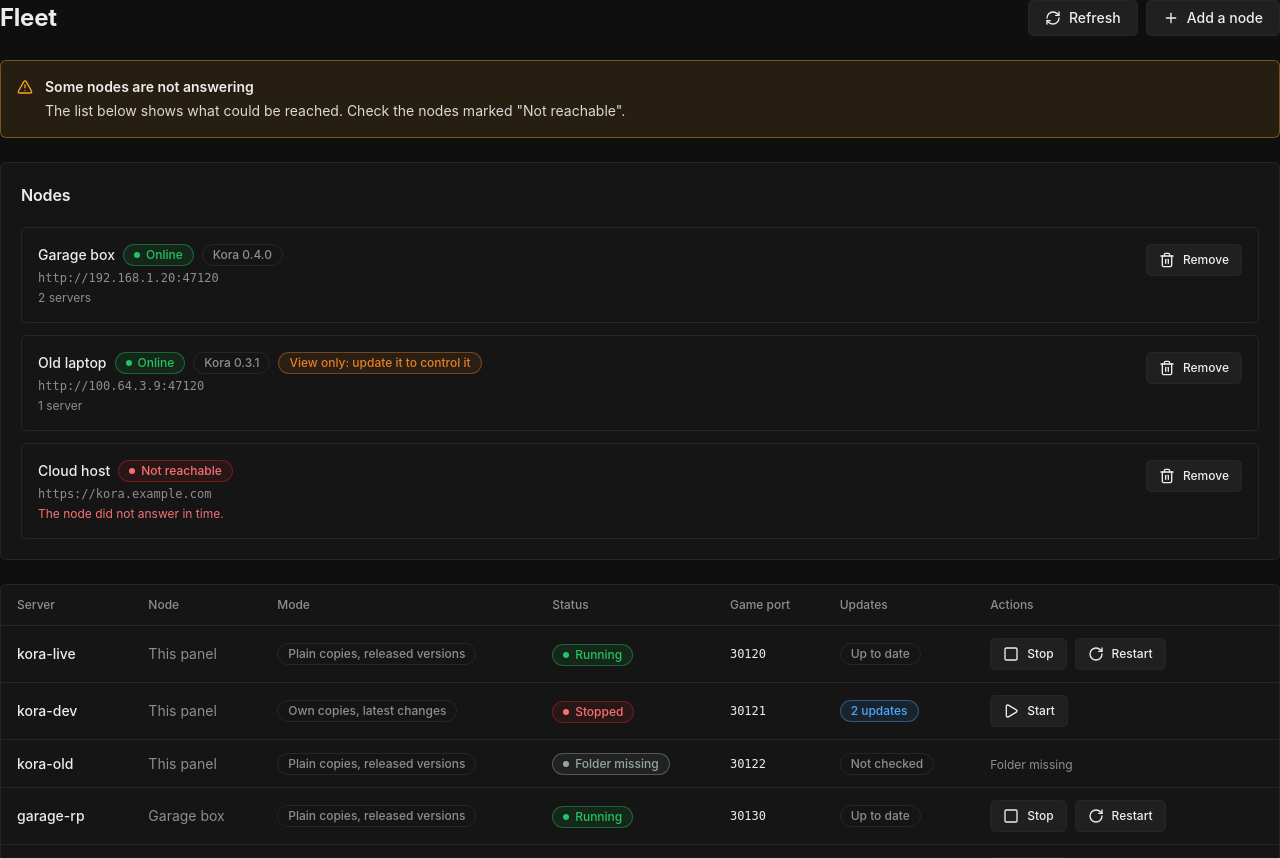
it: Fleet page › adds a node (warning for an open address) and removes one
Expected: the button with aria-label "Remove Garage box" is shown, [1146,244,1242,276]
Click the button "Add a node" at (1213, 18), box [1146,0,1279,36]
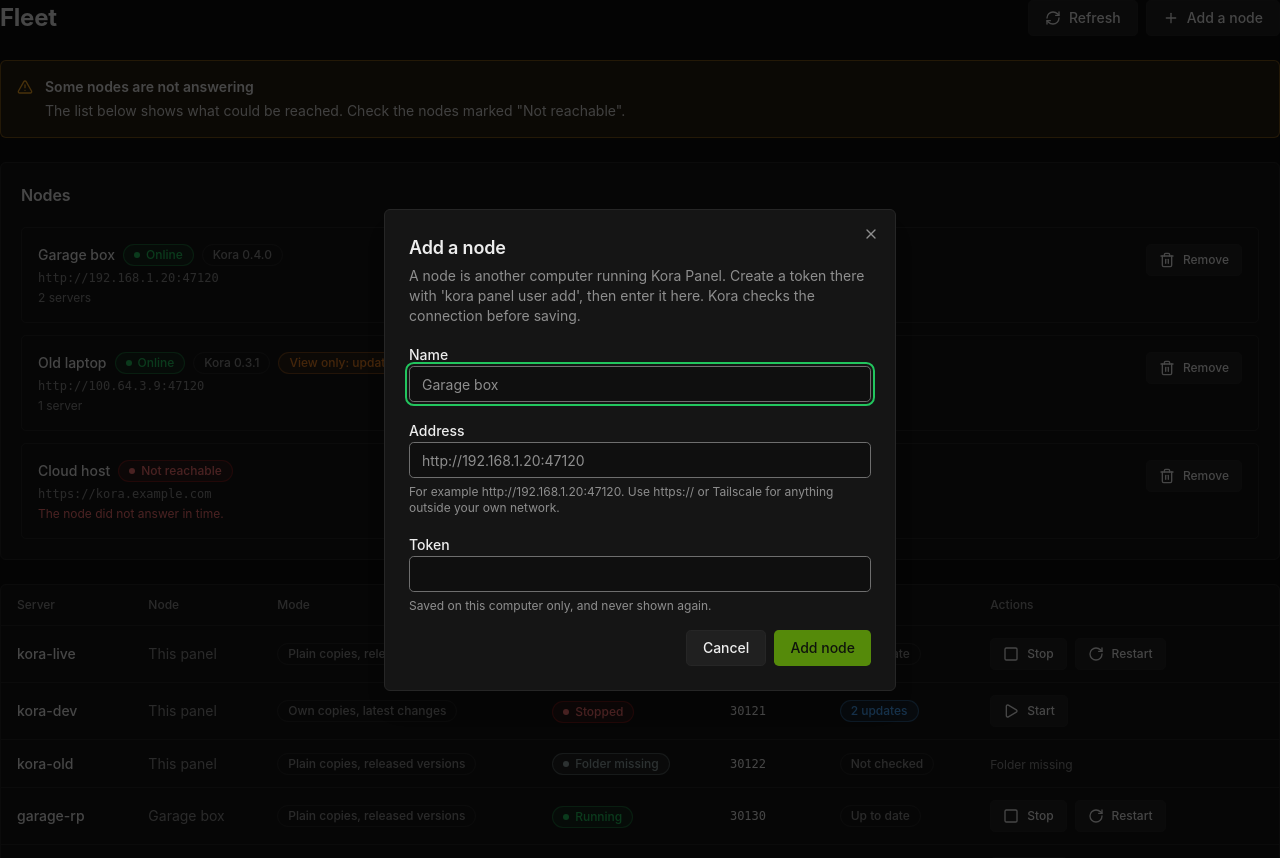
Type "Far away" into the field labelled "Name" at (640, 384), box [409,366,871,402]
Type "http://203.0.113.5:47120" into the field labelled "Address" at (640, 460), box [409,442,871,478]
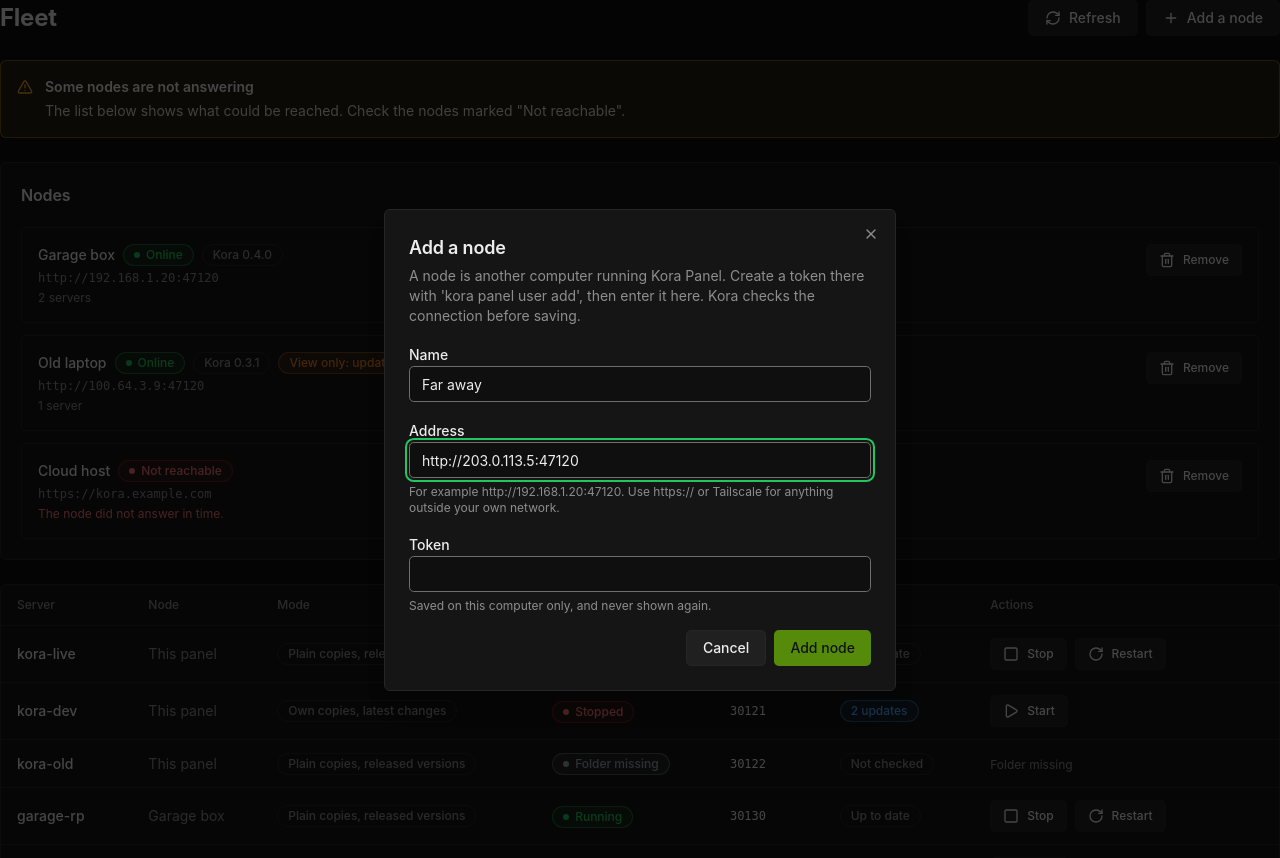
Type "secret" into the password field labelled "Token" at (640, 574), box [409,556,871,592]
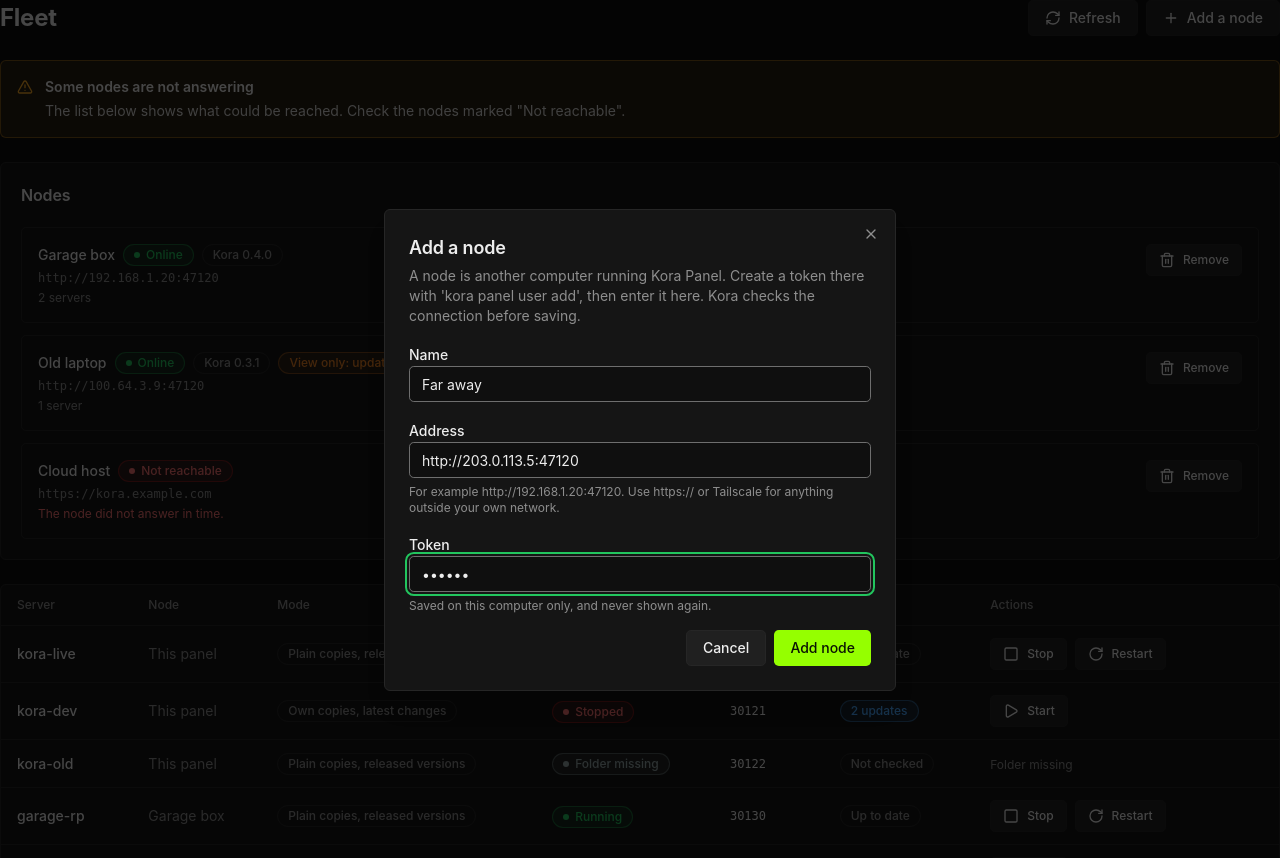
Click the button "Add node" at (823, 648), box [774,630,871,666]
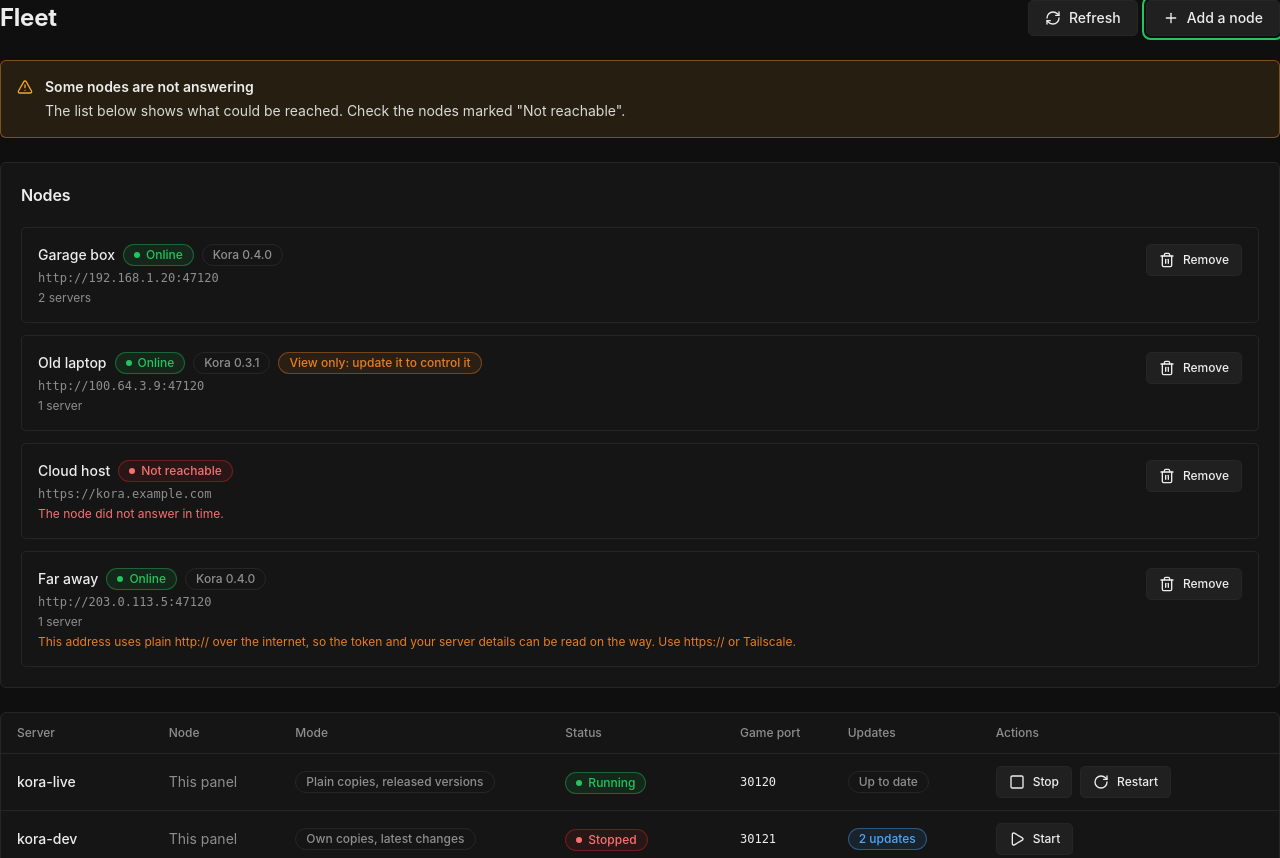
Expected: the button with aria-label "Remove Far away" is shown, [1146,568,1242,600]
Expected: the text "plain http:// over the internet" is shown, [38,634,796,649]
Click the button with aria-label "Remove Old laptop" at (1194, 368), box [1146,352,1242,384]
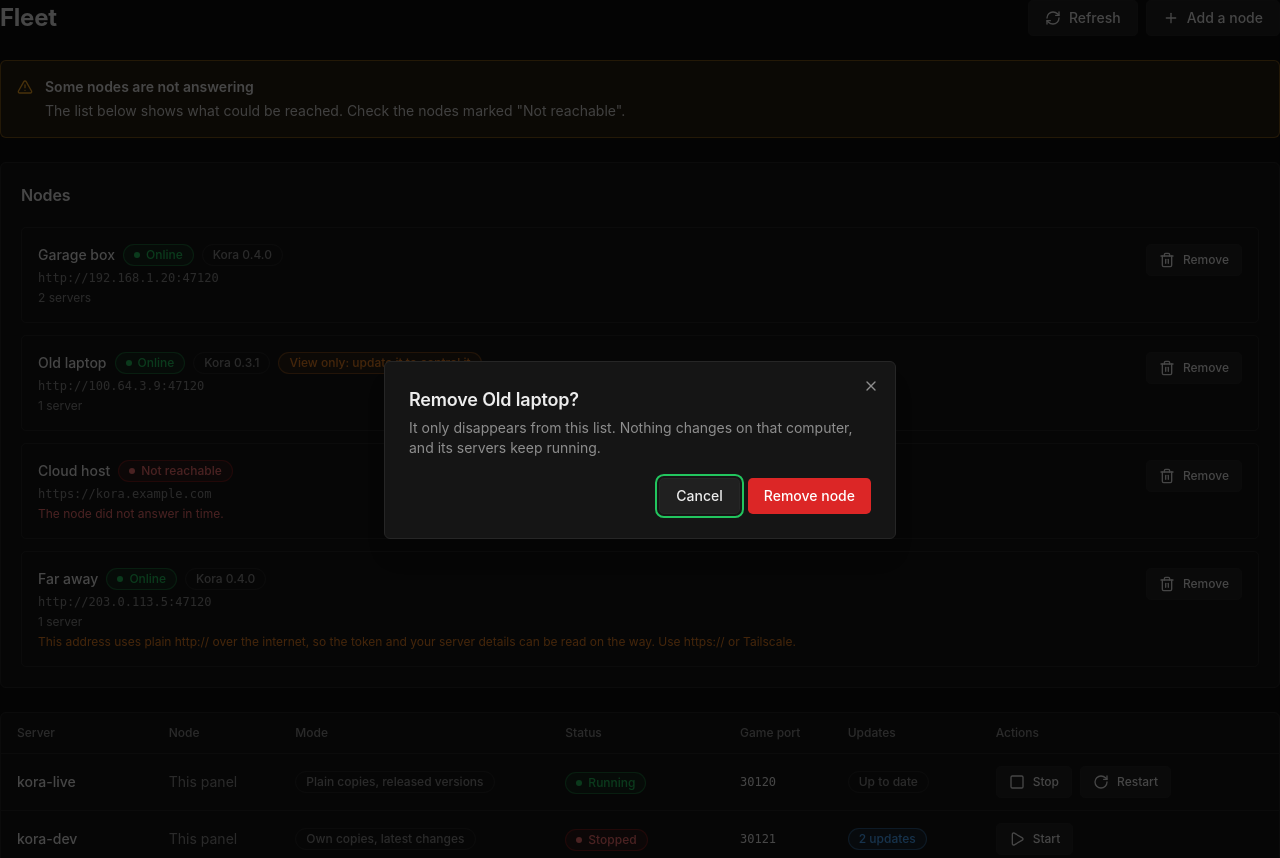
Click the button "Remove node" at (809, 496), box [748,478,871,514]
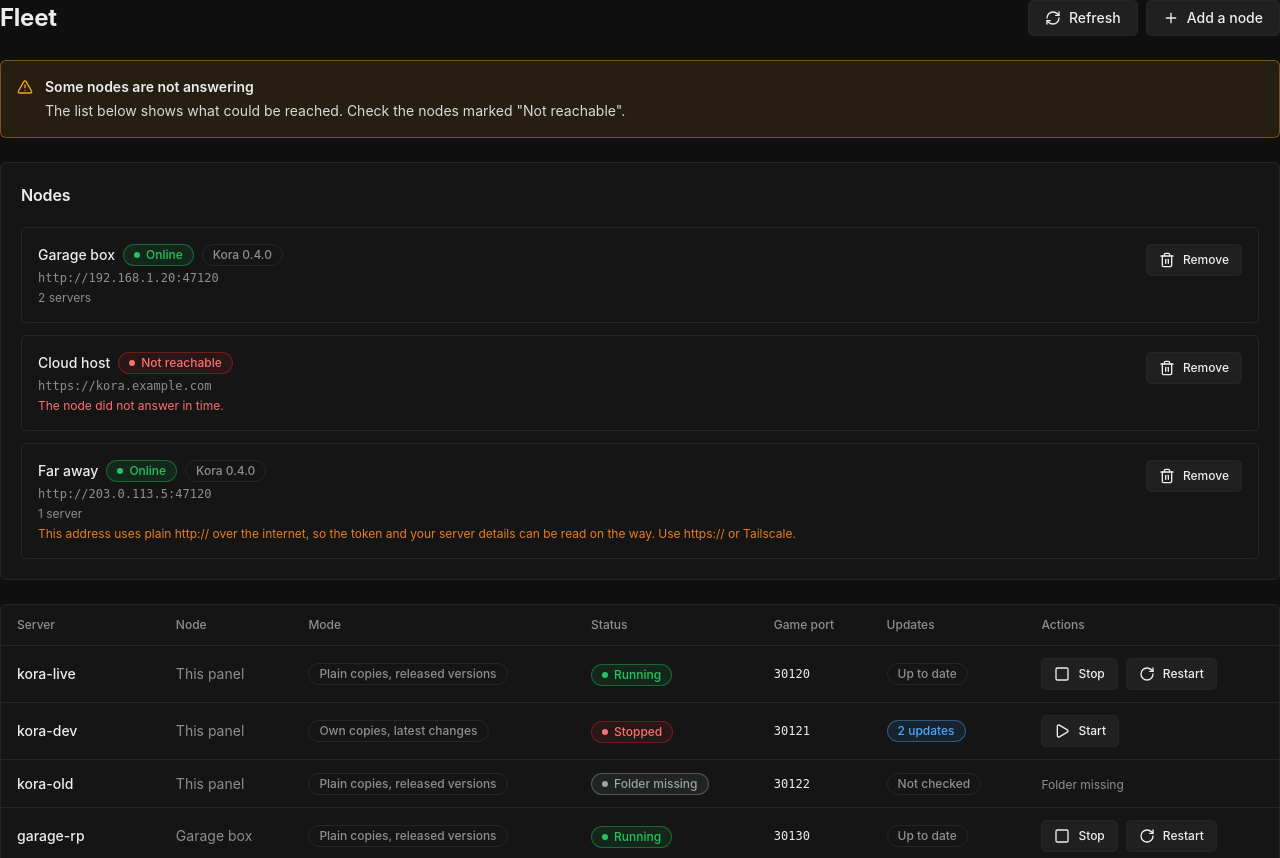
Expected: the list "Remove Old laptop" is gone
